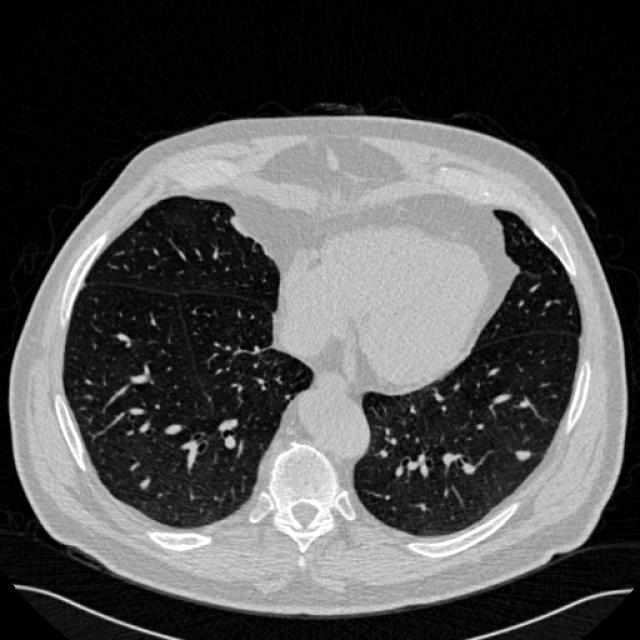nodule: (509, 440, 536, 468)
